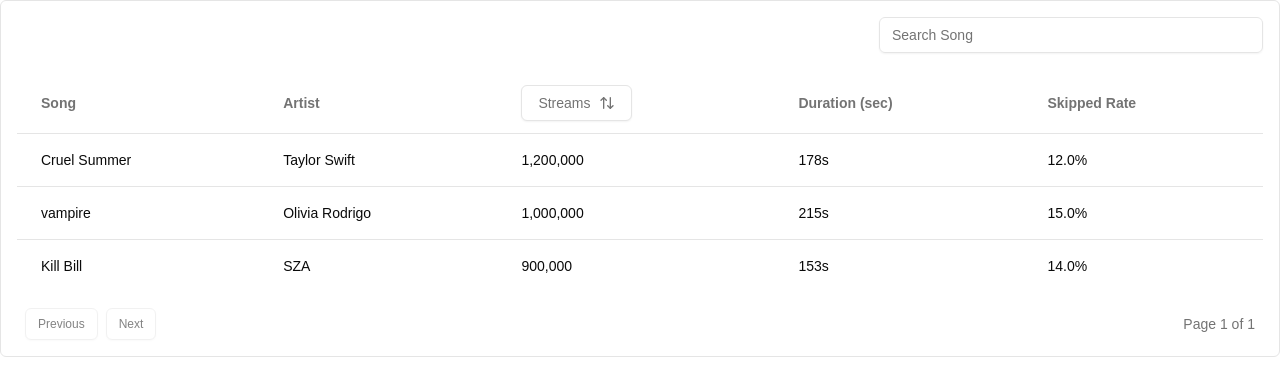
Test: StreamTable Component › filters songs based on search input
The image size is (1280, 374).
Type "Cruel" into the field with placeholder "Search Song" at coordinates (1071, 35), box [879,17,1263,53]
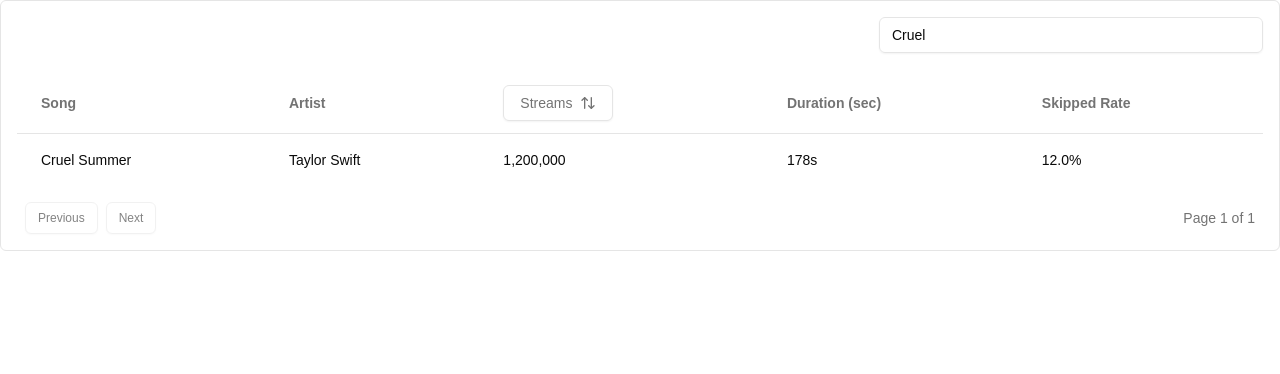
Expected: the text "Cruel Summer" is shown, [41,152,131,168]
Now the text "vampire" is gone
Now the text "Kill Bill" is gone
